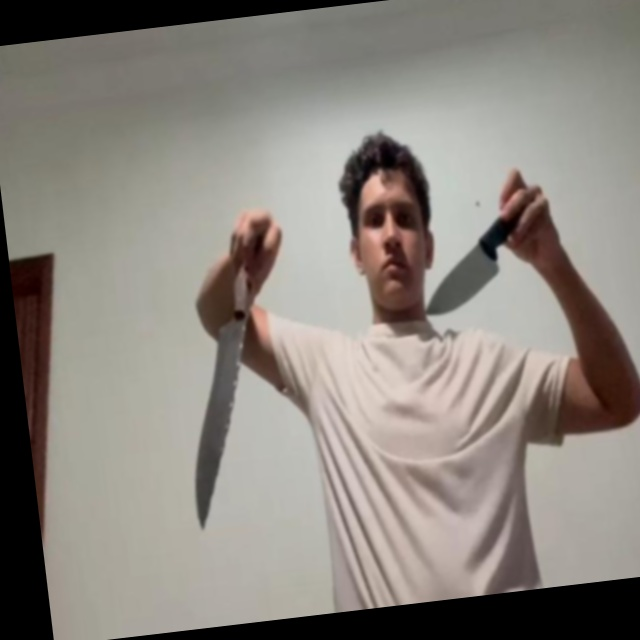Sharp-Object: (174, 313, 272, 532), (418, 235, 503, 313)
